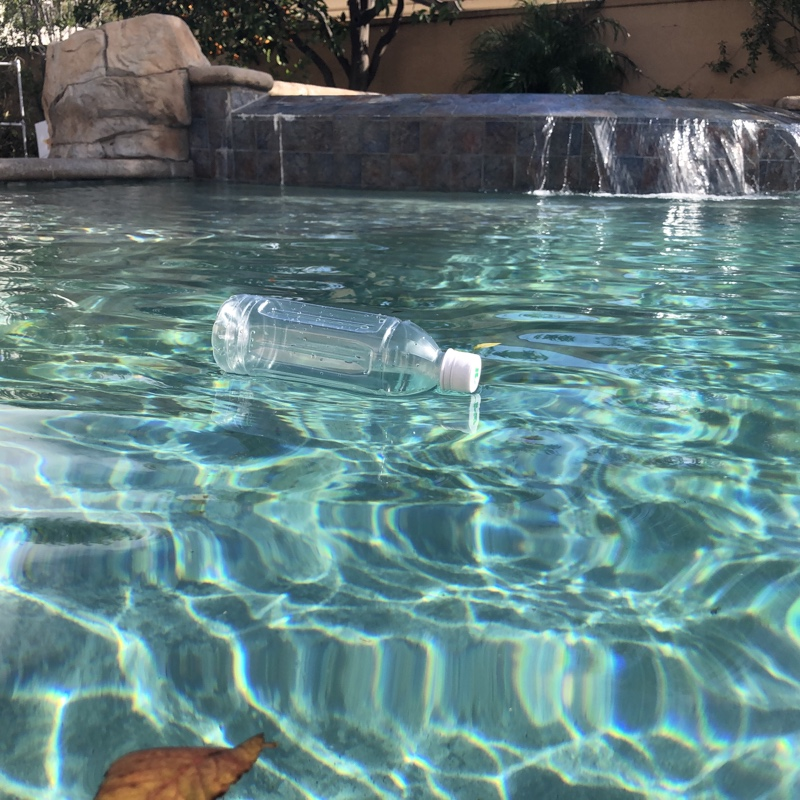Plastic Bottle: (205, 286, 487, 405)
